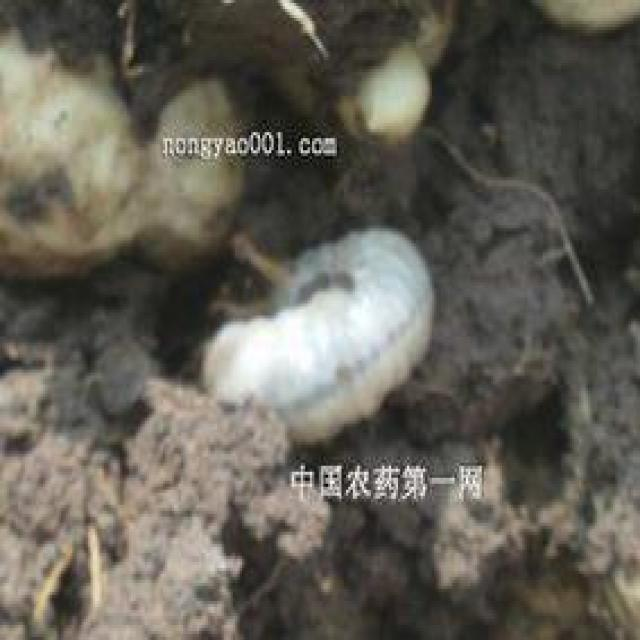Grub-Adult-: (188, 229, 439, 456)
